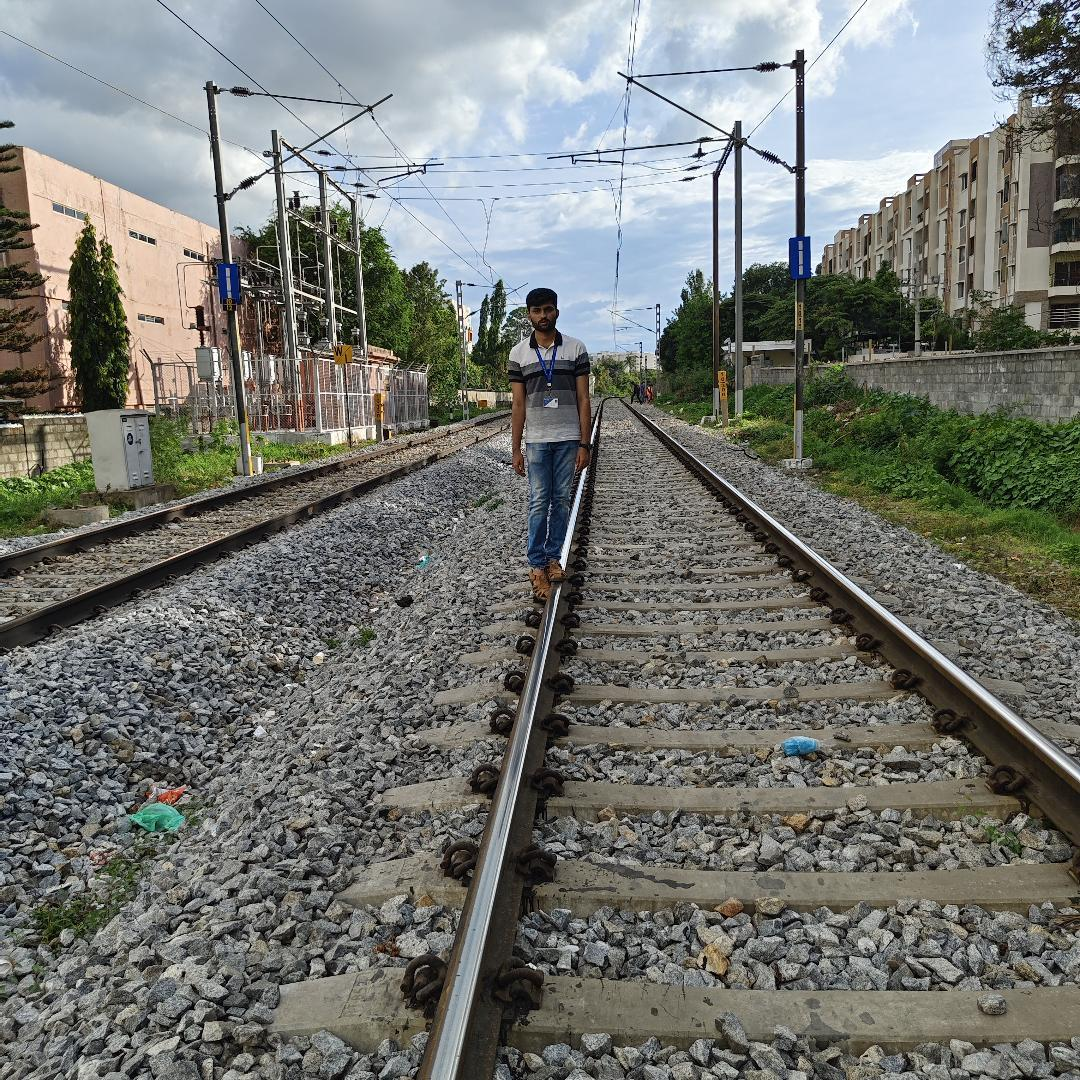standing: (503, 279, 605, 595)
